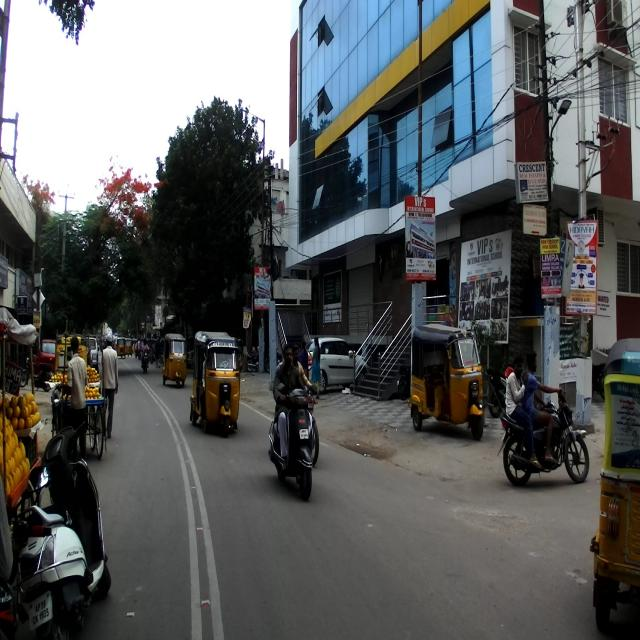autorickshaw: (592, 336, 640, 635), (407, 320, 485, 441), (190, 330, 243, 436)
car: (302, 336, 367, 392)
motorcycle: (496, 388, 590, 488)
scooter: (23, 416, 111, 640), (267, 376, 314, 500)
